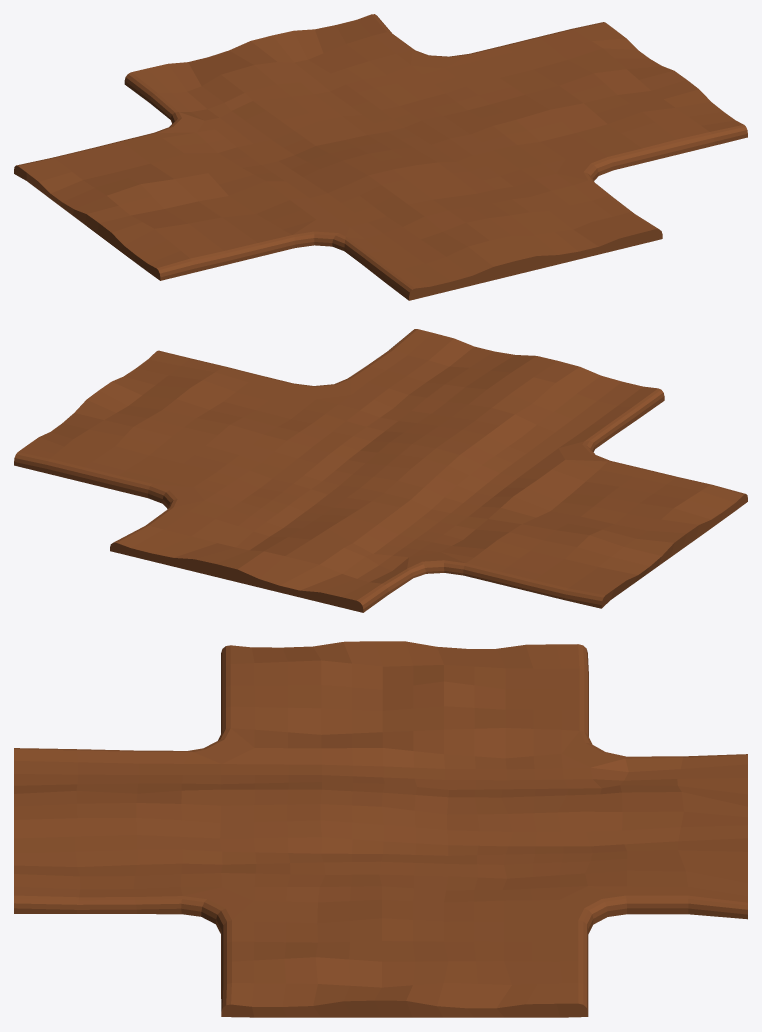
Rendered from GroundTile_2.fbx.
3 views of the same model, one above another, from view 1: azimuth 30°, elevation 25°; view 2: azimuth 150°, elevation 25°; view 3: azimuth 270°, elevation 25° (orthographic). The views are drawn at different scales.
Parts seen in each view (by area): view 1: GroundTile_2; view 2: GroundTile_2; view 3: GroundTile_2.
Boxes of the visible parts, x1,y1,x2,y2 form: GroundTile_2: (14,14,747,300); GroundTile_2: (14,329,747,612); GroundTile_2: (14,641,747,1017).
Bounding box in the file's own units: 697 × 18.81 × 600.
